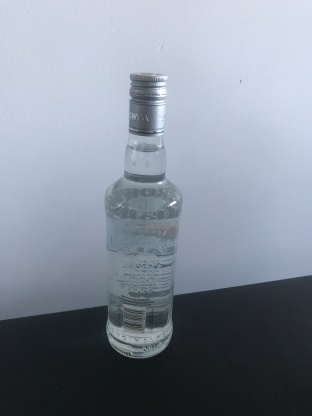nakretka: (126, 71, 169, 138)
